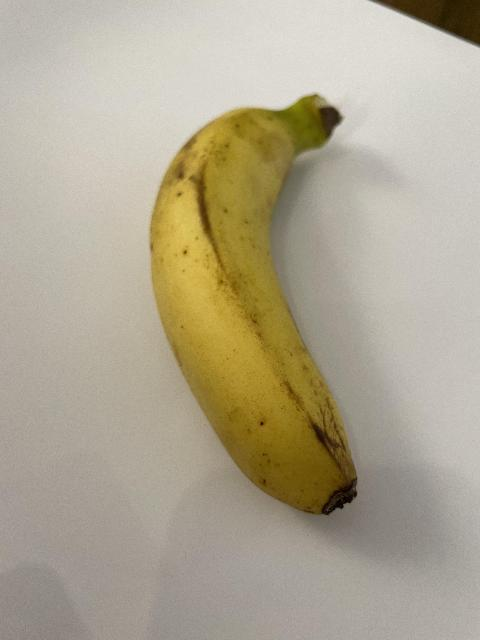banana: (146, 90, 360, 516)
